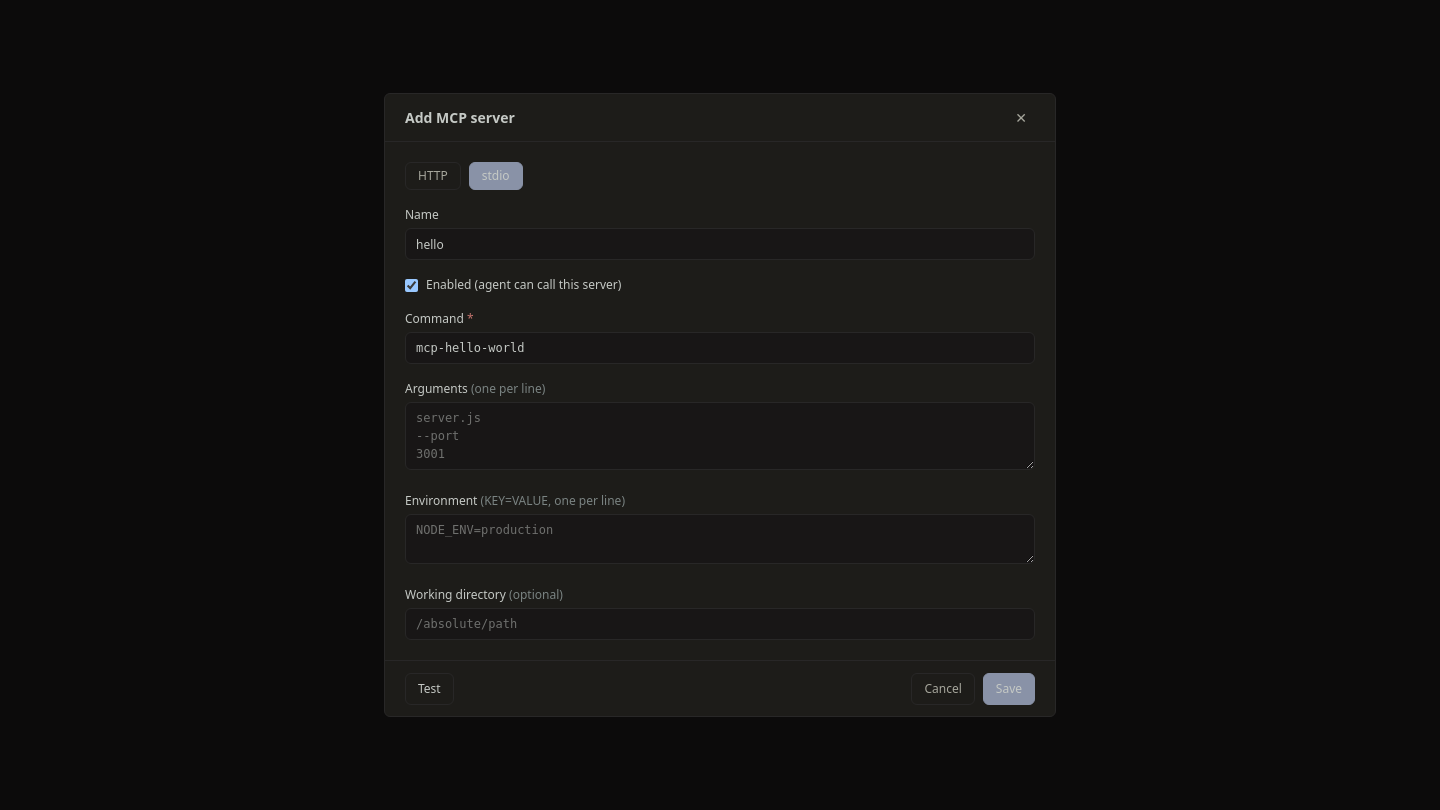
it: McpServerModal — stdio transport › switching to HTTP hides the stdio dialog and shows the HTTP modal
Expected: the dialog with test id "stdio-modal-dialog" is shown, 384,93 -> 1056,717
Click the button with test id "transport-toggle-http". click: (433,176)
box: 405,162 -> 461,190
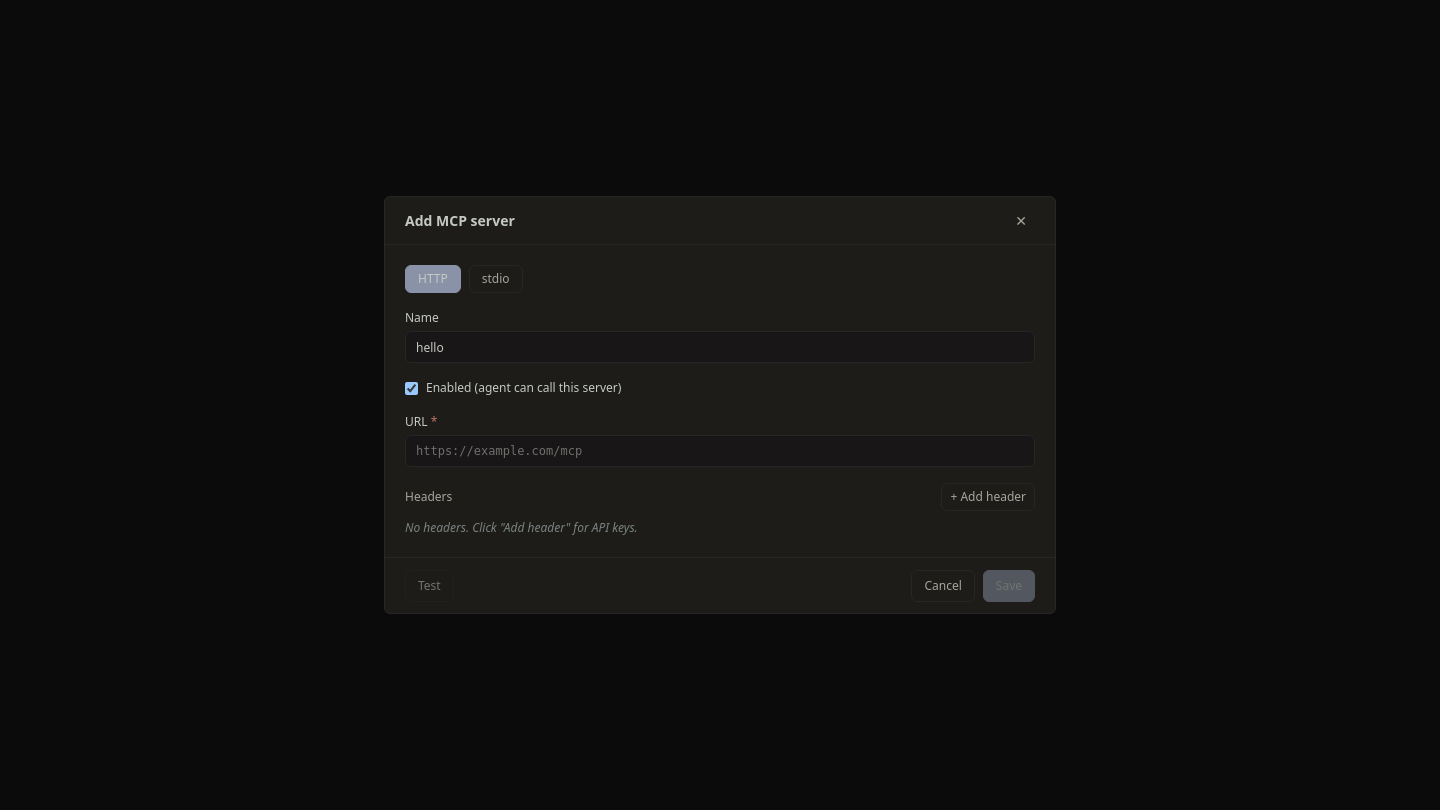
Result: the dialog with test id "stdio-modal-dialog" is gone
Result: the dialog with test id "http-modal-dialog" is shown at 384,196 -> 1056,614
Result: the field with test id "url-input" is shown at 405,435 -> 1035,467
